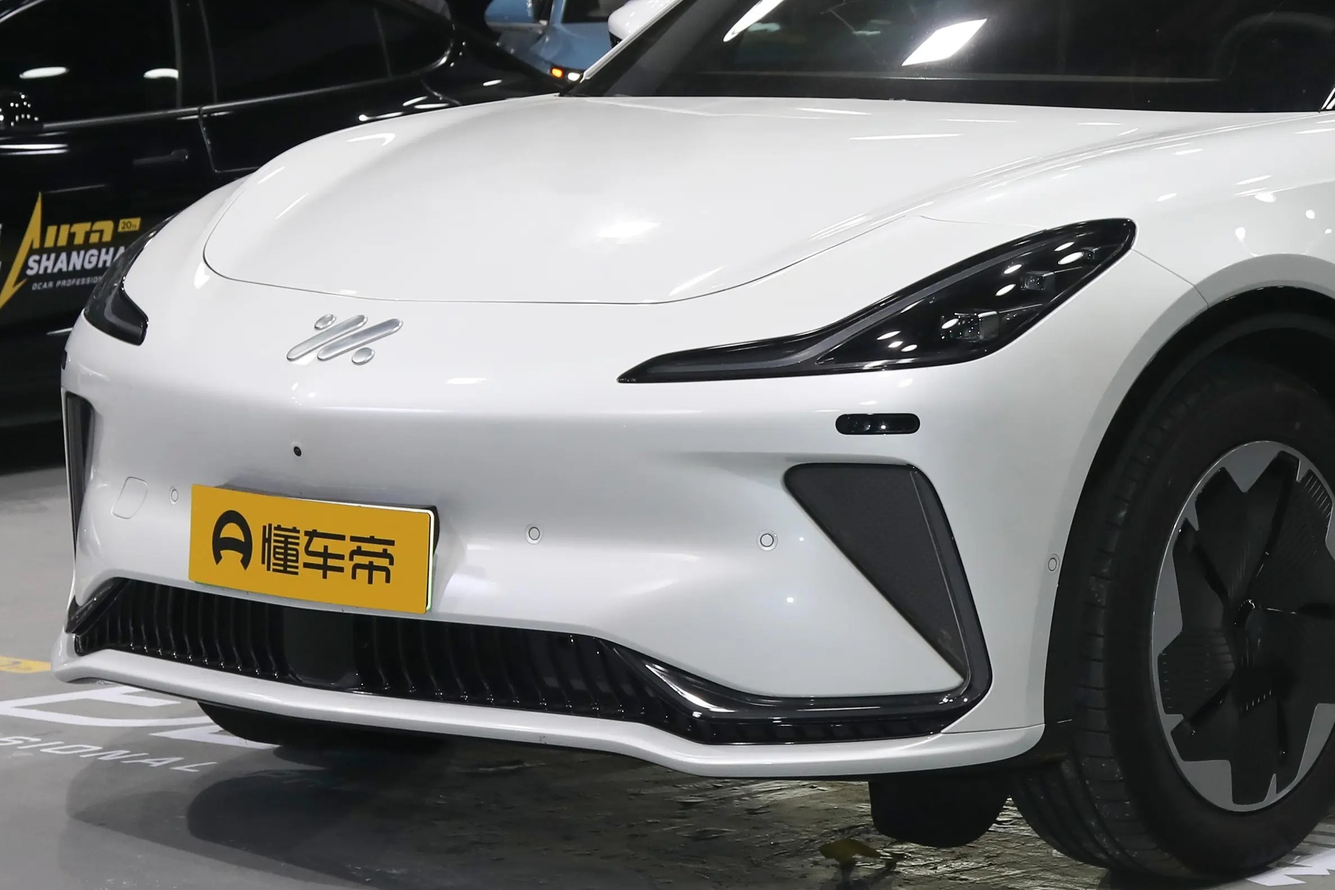IM: (287, 314, 403, 362)
